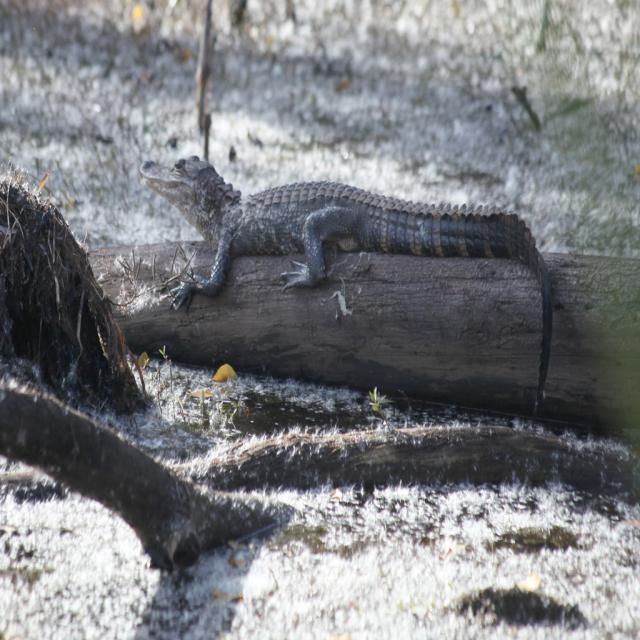crocodile: (141, 147, 553, 320)
